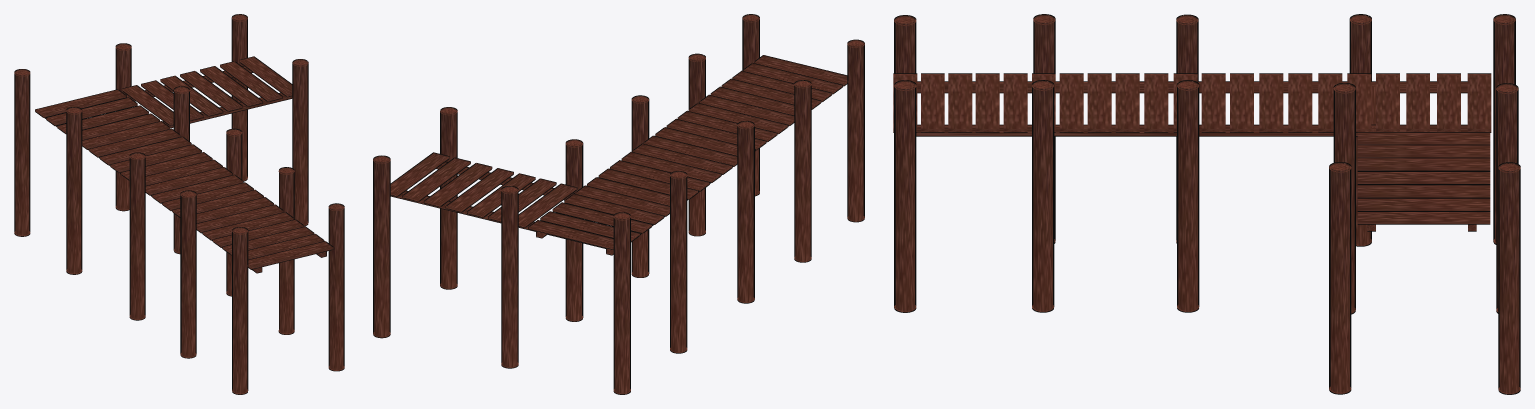
File: boatDock01.glb
3 views of the same model, side by side, from view 1: azimuth 30°, elevation 25°; view 2: azimuth 150°, elevation 25°; view 3: azimuth 270°, elevation 25° (orthographic). The views are drawn at different scales.
Visible parts, largest first — view 1: boatDock02; view 2: boatDock02; view 3: boatDock02.
Boxes of the visible parts, box(x1,y1,x2,y2) form: boatDock02: box(14, 14, 344, 394); boatDock02: box(373, 14, 864, 394); boatDock02: box(893, 14, 1520, 394).
Size of the model in its own units: 0.5279 by 0.3481 by 0.8861.
2 materials, 1 textured.
